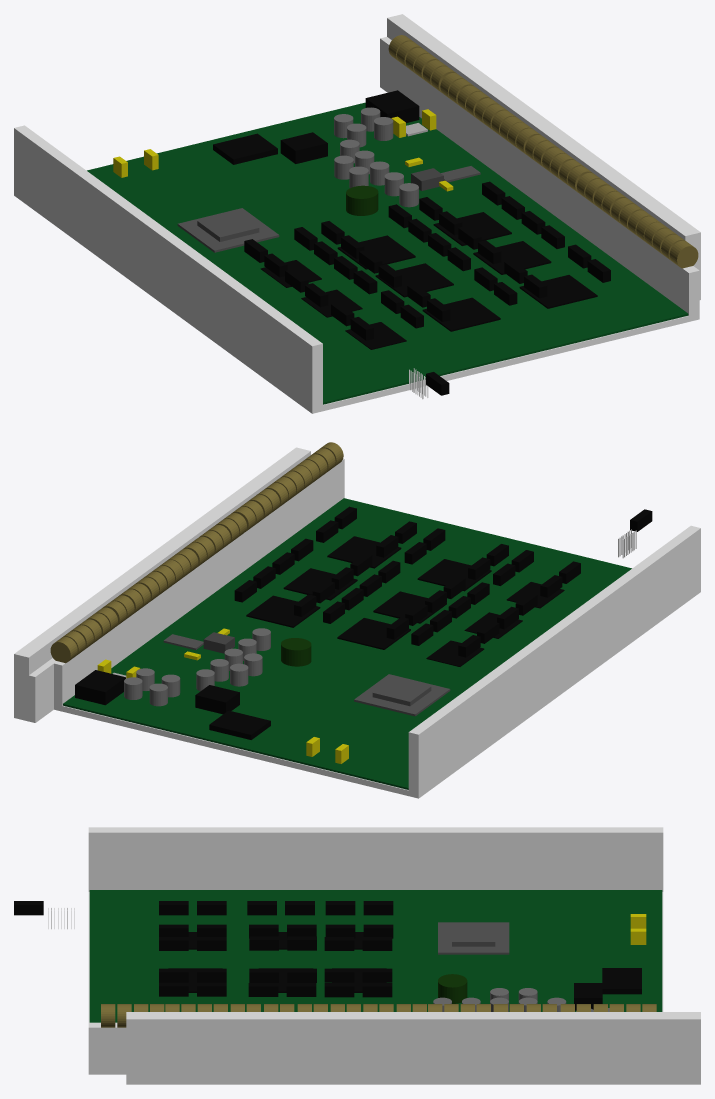
3 views of the same model, one above another, from view 1: azimuth 30°, elevation 25°; view 2: azimuth 150°, elevation 25°; view 3: azimuth 270°, elevation 25° (orthographic). The views are drawn at different scales.
Visible parts, largest first — view 1: Cube.001, Cube, Cube.728, Cube.714, Cube.717, Cube.705, Cube.710, Cube.715, Cube.722, Cube.709, Cube.718, Cube.706 (+5 smaller); view 2: Cube.001, Cube, Cube.728, Cube.714, Cube.722, Cube.708, Cube.707, Cube.717, Cube.715, Cube.710, Cube.705, Cube.718 (+6 smaller); view 3: Cube.001, Cube.728, Cube, Cube.714, Cube.717, Cube.715, Cylinder.011, Cube.718, Cube.115, Cube.134, Cube.495, Cube.514 (+21 smaller).
Boxes of the visible parts, x1,y1,x2,y2 form: Cube.001: (87, 102, 688, 404); Cube: (14, 55, 699, 413); Cube.728: (380, 14, 700, 299); Cube.714: (177, 208, 279, 252); Cube.717: (213, 133, 277, 164); Cube.705: (519, 275, 597, 308); Cube.710: (422, 297, 500, 331); Cube.715: (197, 211, 259, 241); Cube.722: (365, 90, 419, 122); Cube.709: (375, 263, 453, 297); Cube.718: (280, 132, 327, 163); Cube.706: (473, 241, 551, 274); Cube.001: (63, 498, 631, 789); Cube: (52, 458, 700, 798); Cube.728: (14, 447, 310, 722); Cube.714: (354, 674, 450, 716); Cube.722: (75, 670, 125, 705); Cube.708: (337, 618, 410, 649); Cube.707: (246, 595, 320, 627); Cube.717: (209, 710, 270, 739); Cube.715: (372, 677, 431, 706); Cube.710: (417, 559, 491, 591); Cube.705: (327, 536, 401, 568); Cube.718: (195, 685, 239, 714); Cube.001: (89, 890, 662, 1022); Cube.728: (126, 1012, 700, 1084); Cube: (88, 827, 663, 1074); Cube.714: (438, 922, 509, 954); Cube.717: (602, 968, 641, 994); Cube.715: (452, 923, 495, 946); Cylinder.011: (438, 974, 467, 1003); Cube.718: (574, 983, 602, 1010); Cube.115: (325, 901, 355, 915); Cube.134: (363, 901, 393, 915); Cube.495: (324, 983, 354, 997); Cube.514: (362, 983, 392, 997).
Size of the model in its own units: 1264 by 206 by 1913.
